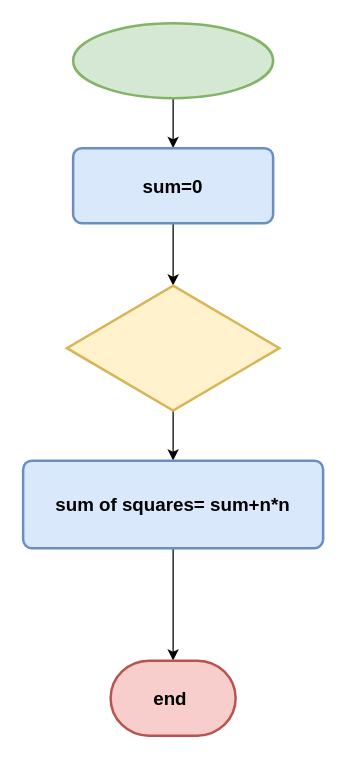
The diagram is 345 pixels wide and 758 high, and some of its shapes have lost their labels. The box of each missing label's shape, as (x1, y1, x2, y2) in pixels:
input: n: (65, 284, 280, 411)
start: (71, 21, 274, 99)
